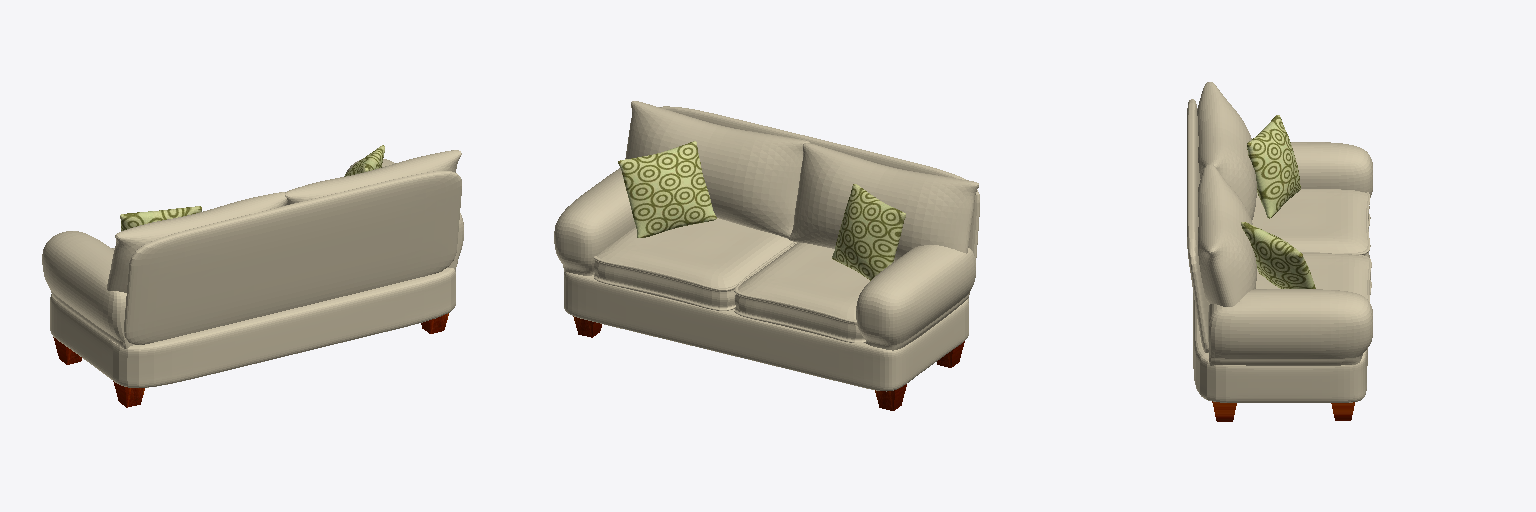
The picture shows the model from 3 angles: view 1: azimuth 30°, elevation 25°; view 2: azimuth 150°, elevation 25°; view 3: azimuth 270°, elevation 25°; orthographic projection.
Parts seen in each view (by area): view 1: PolyMesh_1_1, PolyMesh_2, PolyMesh_3, PolyMesh_1_4, PolyMesh_1, PolyMesh_1_2, PolyMesh_1_3; view 2: PolyMesh_2, PolyMesh_1, PolyMesh_1_4, PolyMesh_4_1, PolyMesh_4, PolyMesh_3, PolyMesh_1_3, PolyMesh_3_1, PolyMesh_1_2, PolyMesh_1_1; view 3: PolyMesh_3_1, PolyMesh_2, PolyMesh_1, PolyMesh_4, PolyMesh_1_4, PolyMesh_3, PolyMesh_1_2, PolyMesh_1_1, PolyMesh_1_3, PolyMesh_4_1.
Boxes of the visible parts, x1=… form: PolyMesh_1_1: x1=124, y1=171, x2=461, y2=344; PolyMesh_2: x1=50, y1=268, x2=455, y2=387; PolyMesh_3: x1=42, y1=231, x2=133, y2=348; PolyMesh_1_4: x1=107, y1=192, x2=287, y2=292; PolyMesh_1: x1=285, y1=150, x2=461, y2=204; PolyMesh_1_2: x1=120, y1=206, x2=201, y2=230; PolyMesh_1_3: x1=344, y1=145, x2=384, y2=176; PolyMesh_2: x1=564, y1=272, x2=968, y2=391; PolyMesh_1: x1=625, y1=101, x2=809, y2=238; PolyMesh_1_4: x1=788, y1=143, x2=978, y2=261; PolyMesh_4_1: x1=594, y1=218, x2=795, y2=310; PolyMesh_4: x1=734, y1=242, x2=869, y2=342; PolyMesh_3: x1=856, y1=245, x2=975, y2=350; PolyMesh_1_3: x1=618, y1=141, x2=716, y2=237; PolyMesh_3_1: x1=554, y1=168, x2=635, y2=275; PolyMesh_1_2: x1=832, y1=184, x2=905, y2=280; PolyMesh_1_1: x1=660, y1=106, x2=979, y2=259; PolyMesh_3_1: x1=1208, y1=289, x2=1372, y2=365; PolyMesh_2: x1=1193, y1=293, x2=1367, y2=402; PolyMesh_1: x1=1198, y1=164, x2=1256, y2=306; PolyMesh_4: x1=1252, y1=189, x2=1370, y2=257; PolyMesh_1_4: x1=1197, y1=82, x2=1256, y2=219; PolyMesh_3: x1=1291, y1=142, x2=1372, y2=196; PolyMesh_1_2: x1=1247, y1=115, x2=1300, y2=218; PolyMesh_1_1: x1=1187, y1=99, x2=1208, y2=352; PolyMesh_1_3: x1=1241, y1=222, x2=1315, y2=288; PolyMesh_4_1: x1=1256, y1=253, x2=1371, y2=301.
Bounding box in the file's own units: 5.24 × 2.52 × 2.37.
Materials: 3 (2 with a texture image).